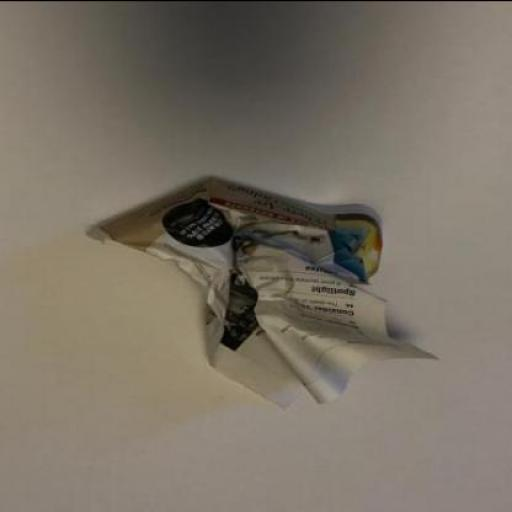paper: (84, 179, 439, 411)
